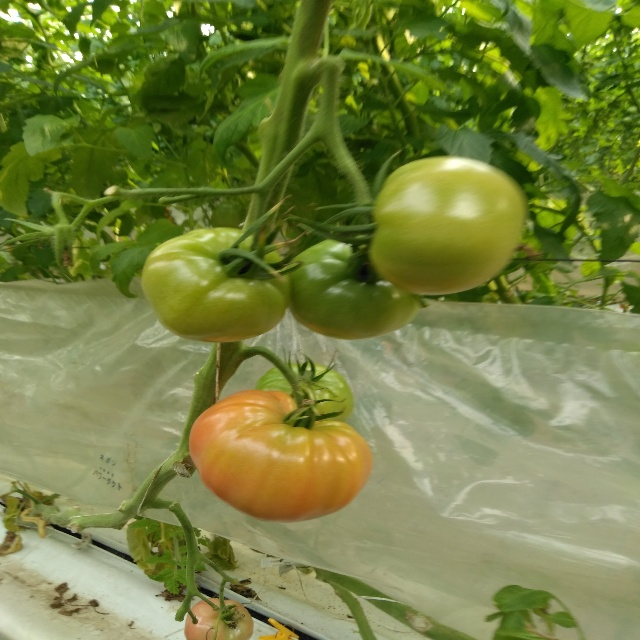b_green: (366, 156, 527, 295), (141, 227, 291, 344), (287, 233, 421, 340), (254, 362, 354, 423)
b_half_ripened: (188, 389, 373, 523), (183, 598, 254, 640)
